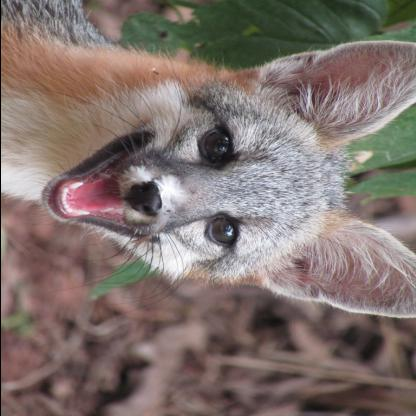zorro: (2, 0, 416, 330)
